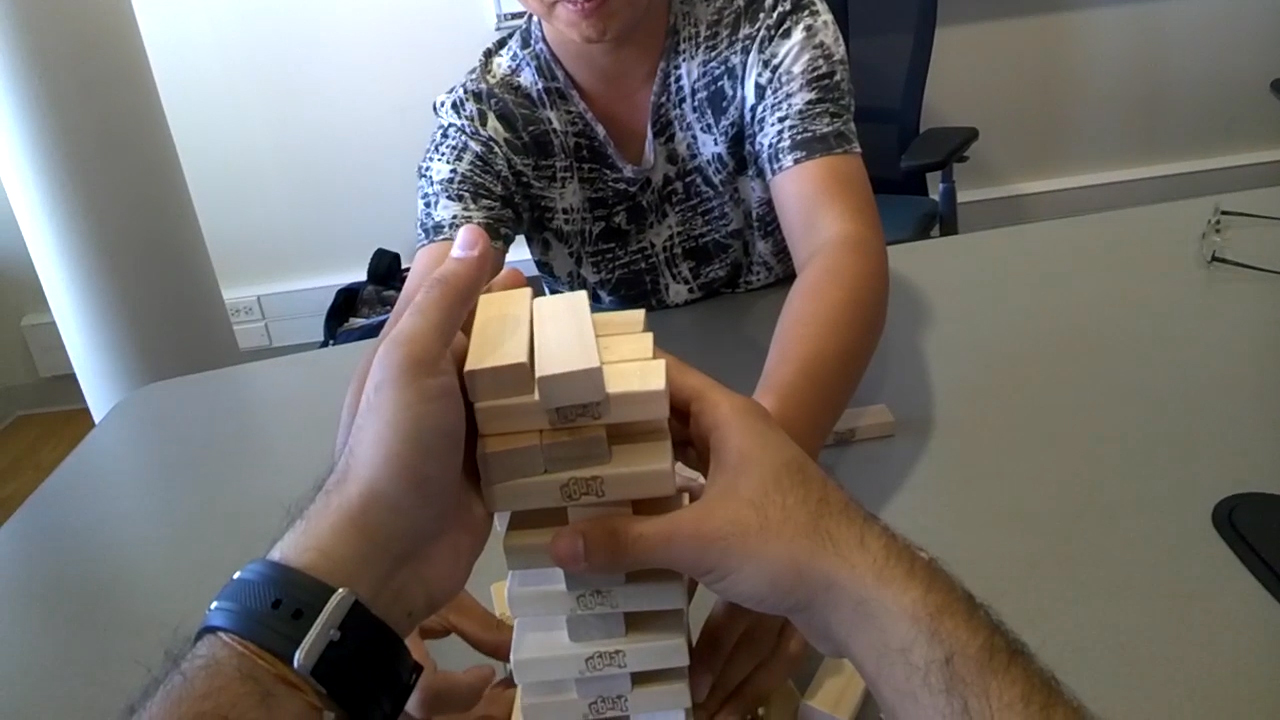hand: (553, 365, 884, 645), (334, 230, 491, 610), (413, 594, 513, 718), (692, 614, 806, 718)
